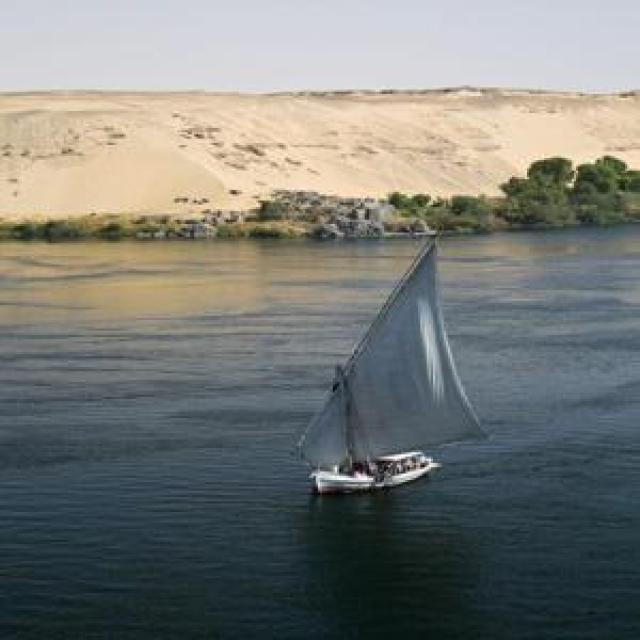sailboat: (289, 224, 475, 492)
